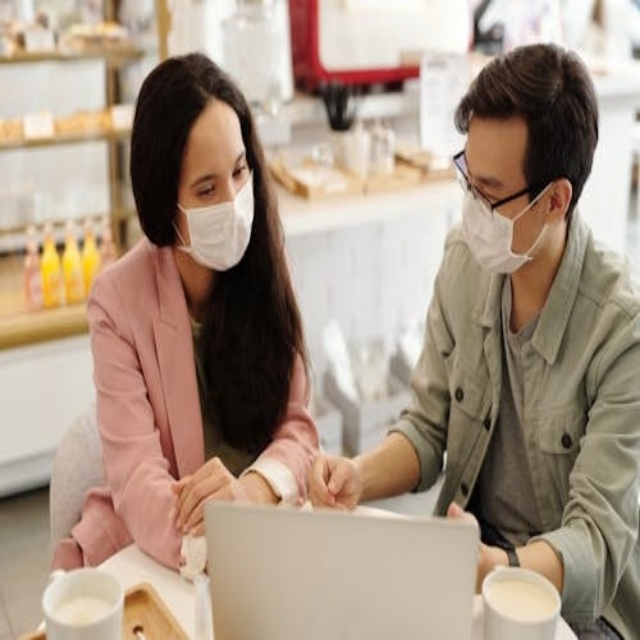Gafas: (450, 151, 540, 215)
Mascara: (460, 175, 552, 275), (173, 171, 255, 271)
Sin_gafas: (182, 142, 253, 204)
Sin_guantes: (173, 455, 240, 544), (307, 448, 363, 510)
